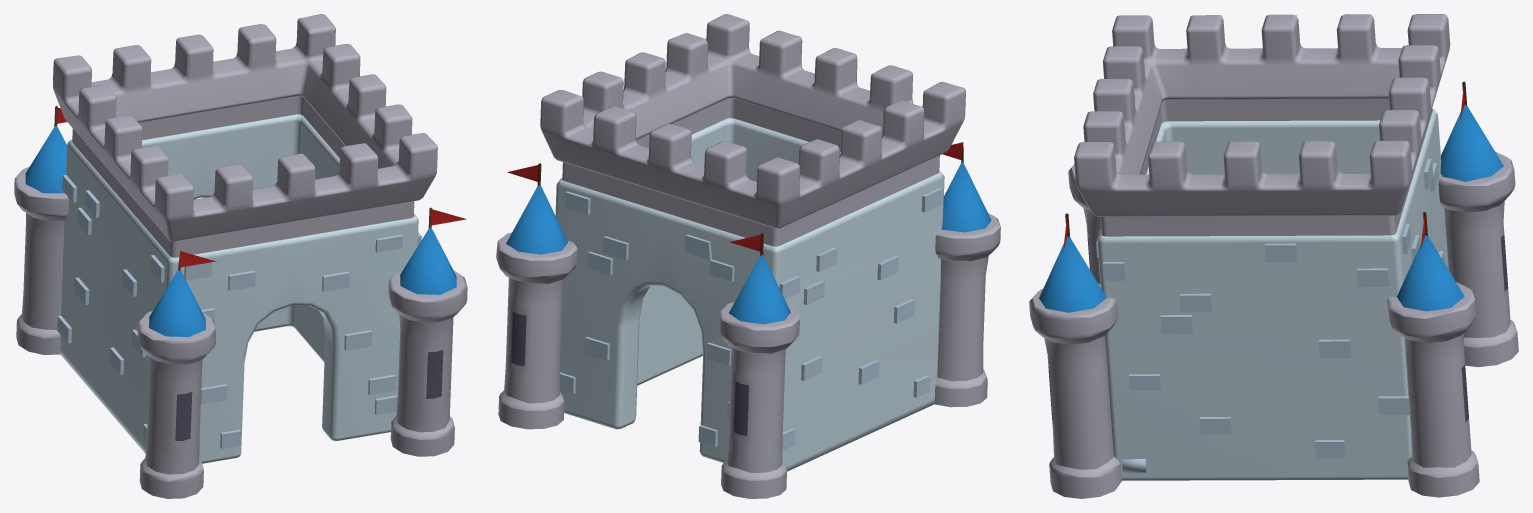
3 renders of one model, left to right at view 1: azimuth 30°, elevation 25°; view 2: azimuth 150°, elevation 25°; view 3: azimuth 270°, elevation 25°, orthographic. The views are drawn at different scales.
Parts seen in each view (by area): view 1: model_1.042; view 2: model_1.042; view 3: model_1.042.
Part boxes in pixels (bbox=[...]): model_1.042: bbox=[14, 14, 467, 498]; model_1.042: bbox=[496, 14, 1000, 498]; model_1.042: bbox=[1029, 14, 1518, 498].
Size of the model in its own units: 4.84 by 4.37 by 5.41.
